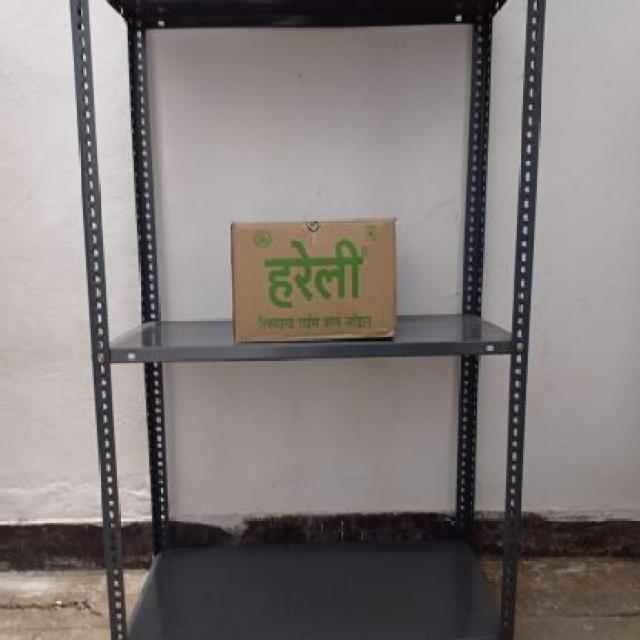box: (231, 220, 397, 337)
